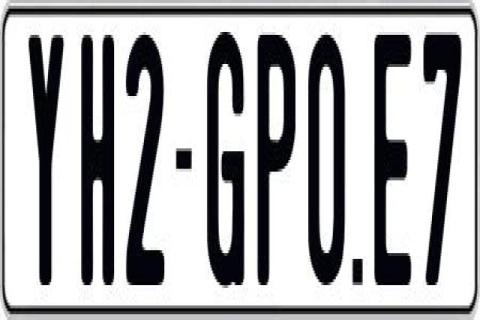0: (421, 32, 462, 282), (308, 35, 346, 288), (126, 29, 164, 279)
E: (374, 32, 412, 300)
G: (205, 32, 247, 294)
H: (80, 35, 118, 297)
P: (256, 35, 298, 297)
Y: (25, 29, 62, 279)
